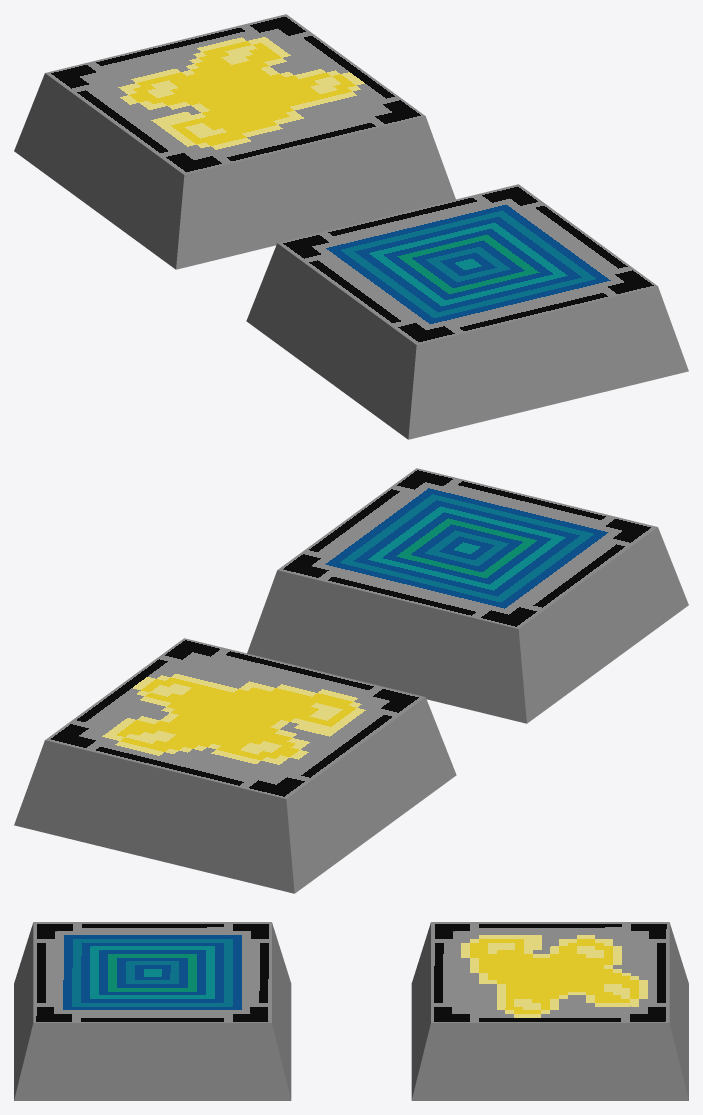
The model's file is goo_pad.glb.
The picture shows the model from 3 angles, top to bottom: view 1: azimuth 30°, elevation 25°; view 2: azimuth 150°, elevation 25°; view 3: azimuth 270°, elevation 25°; orthographic projection. The views are drawn at different scales.
Visible parts, largest first — view 1: Cube.001, Cube; view 2: Cube, Cube.001; view 3: Cube, Cube.001.
Part boxes in pixels (x1,y1,x2,y2): Cube.001: [246, 184, 688, 439]; Cube: [14, 14, 455, 269]; Cube: [14, 638, 456, 893]; Cube.001: [247, 468, 688, 723]; Cube: [411, 922, 688, 1100]; Cube.001: [14, 922, 291, 1100].
Size of the model in its own units: 4.19 by 1.16 by 10.19.
2 materials, 2 textured.
